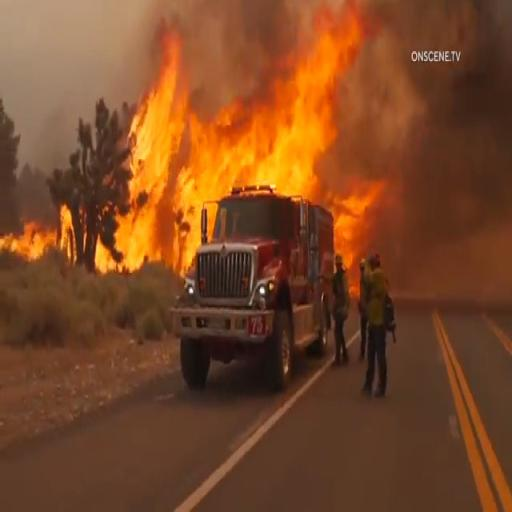fire: (194, 8, 363, 184), (105, 34, 197, 252), (0, 176, 83, 276)
smoke: (396, 91, 510, 233)
